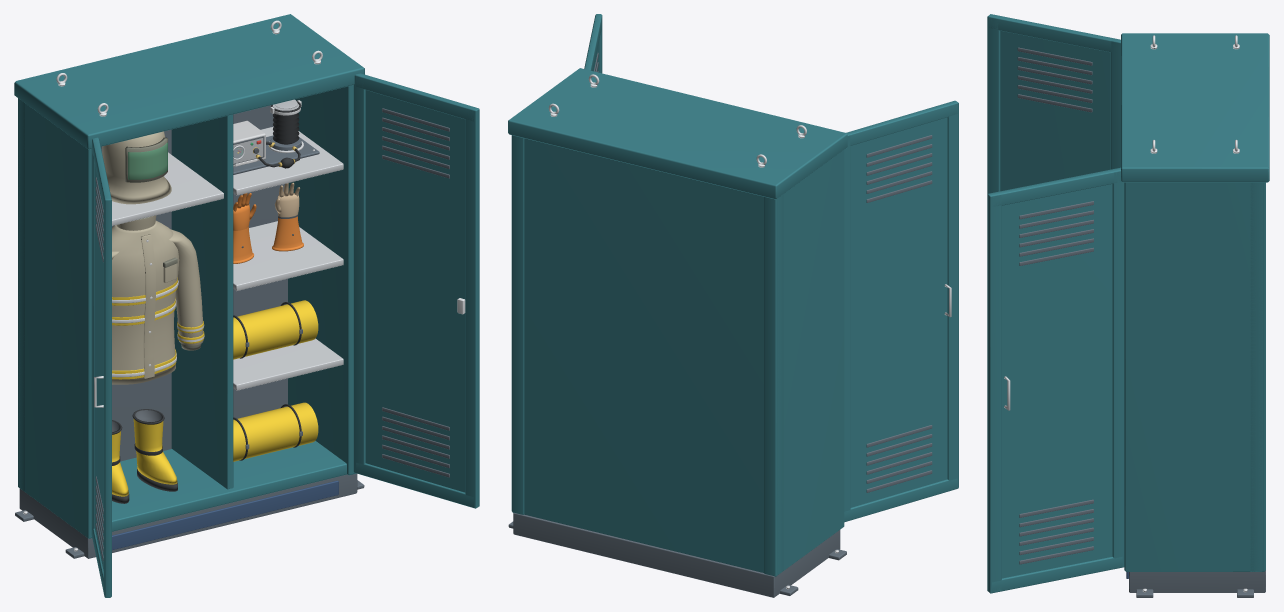
File: ppe-locker.glb
The picture shows the model from 3 angles, left to right: view 1: azimuth 30°, elevation 25°; view 2: azimuth 150°, elevation 25°; view 3: azimuth 270°, elevation 25°; orthographic projection. The views are drawn at different scales.
Visible parts, largest first — view 1: PpeLockerCabinet, PpeRightDoorMesh, PpeLockerSuit, PpeLockerBoots, PpeLeftDoorMesh, PpeLockerGloves; view 2: PpeLockerCabinet, PpeLeftDoorMesh, PpeRightDoorMesh; view 3: PpeLockerCabinet, PpeRightDoorMesh, PpeLeftDoorMesh.
Boxes of the visible parts, left/top/right/bottom form: PpeLockerCabinet: left=14, top=14, right=364, bottom=558; PpeRightDoorMesh: left=353, top=73, right=479, bottom=508; PpeLockerSuit: left=102, top=131, right=204, bottom=384; PpeLockerBoots: left=112, top=300, right=318, bottom=503; PpeLeftDoorMesh: left=91, top=137, right=111, bottom=597; PpeLockerGloves: left=233, top=182, right=303, bottom=263; PpeLockerCabinet: left=508, top=68, right=847, bottom=597; PpeLeftDoorMesh: left=844, top=100, right=958, bottom=522; PpeRightDoorMesh: left=584, top=14, right=602, bottom=73; PpeLockerCabinet: left=1121, top=33, right=1269, bottom=597; PpeRightDoorMesh: left=987, top=167, right=1124, bottom=593; PpeLeftDoorMesh: left=987, top=14, right=1120, bottom=194.
Size of the model in its own units: 1.9 by 2.12 by 1.23.
